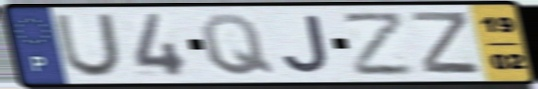4: (130, 11, 189, 79)
J: (280, 13, 333, 75)
Q: (196, 12, 278, 78)
U: (52, 12, 124, 80)
Z: (340, 10, 418, 78), (409, 9, 484, 77)
